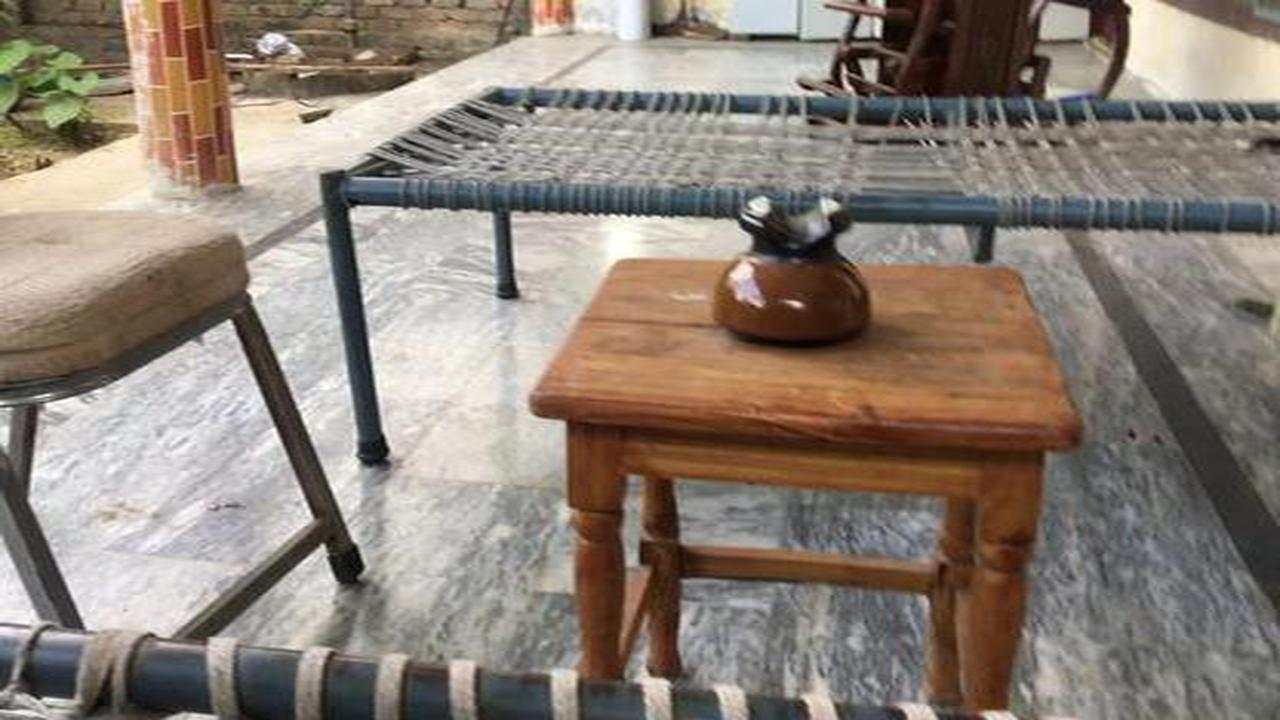insulator_pin: (702, 179, 893, 355)
